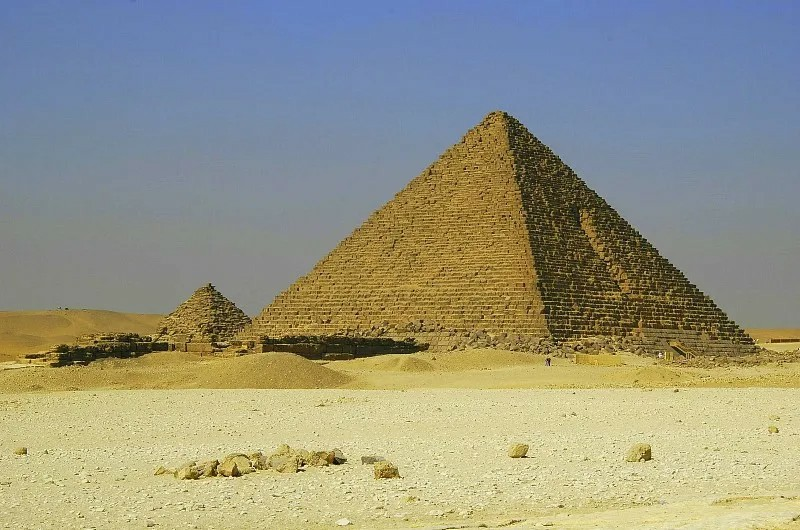Pyramid: (234, 112, 761, 359), (148, 284, 251, 348)
